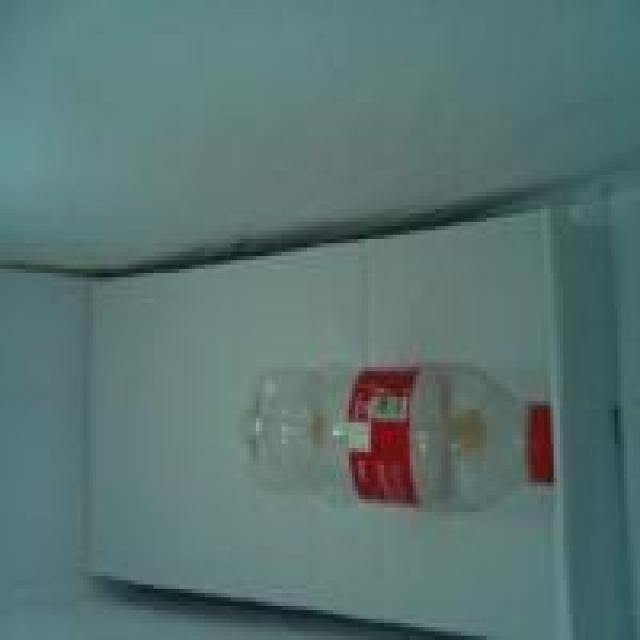bottle: (226, 337, 584, 535)
